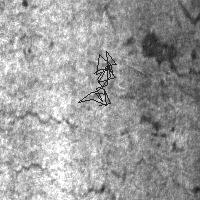crazing: (1, 109, 131, 193), (86, 60, 142, 100), (78, 51, 116, 105), (140, 29, 178, 65)
